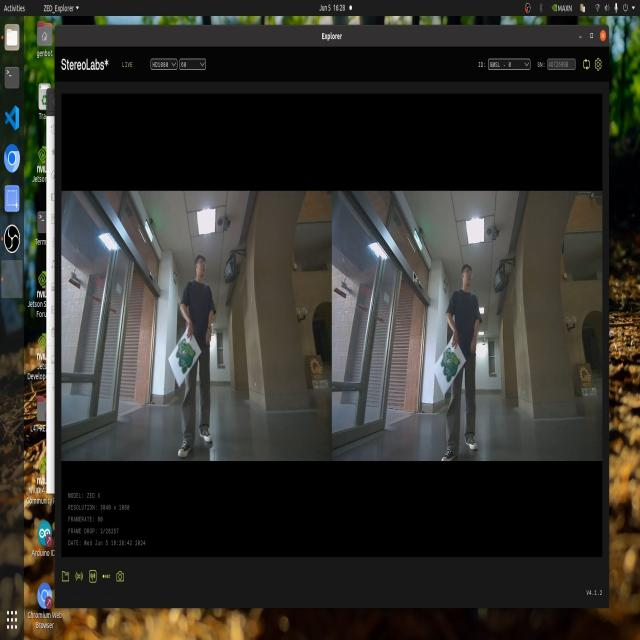green: (163, 337, 197, 371), (441, 344, 462, 383)
